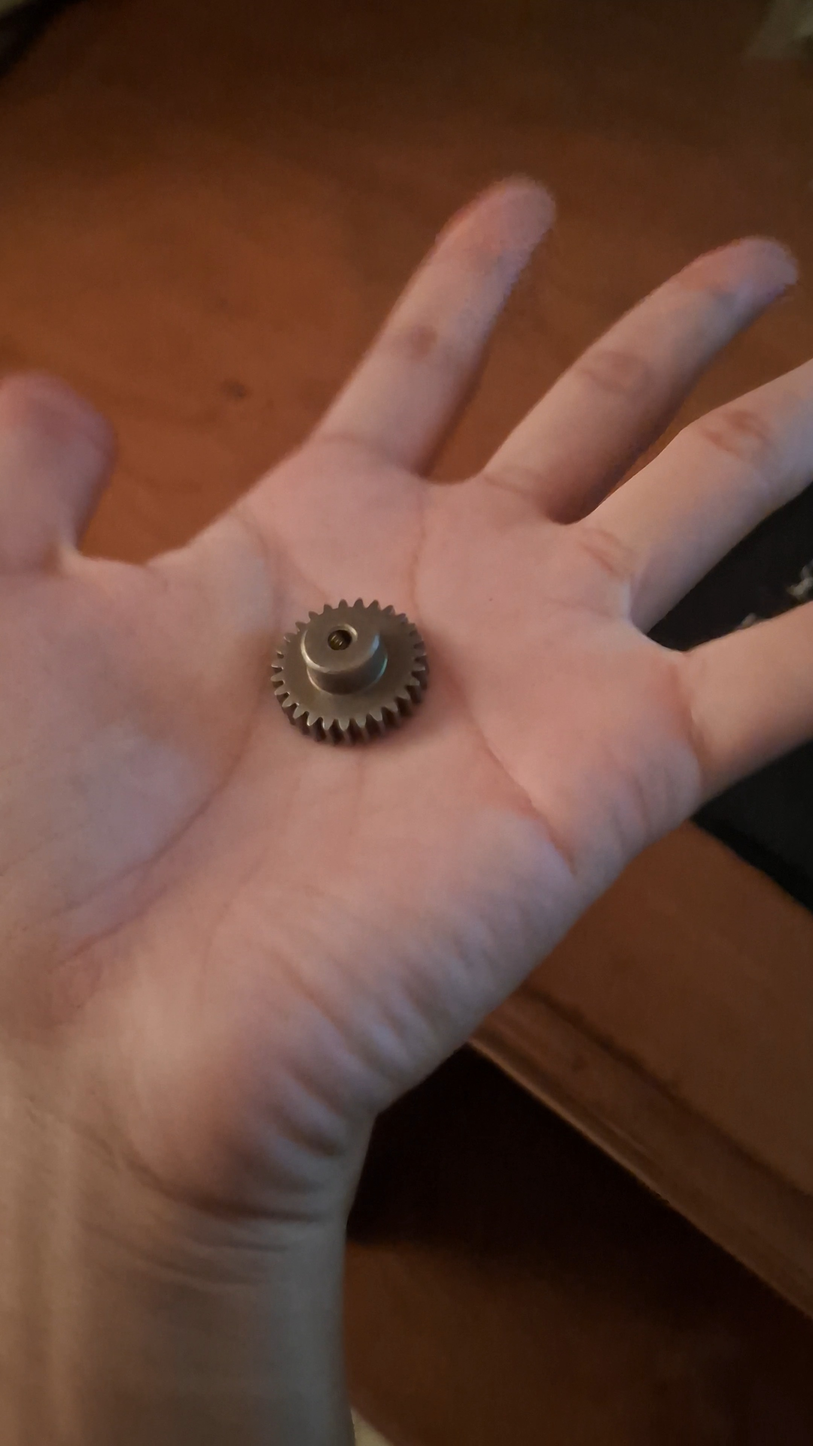spur gear: (271, 598, 428, 743)
